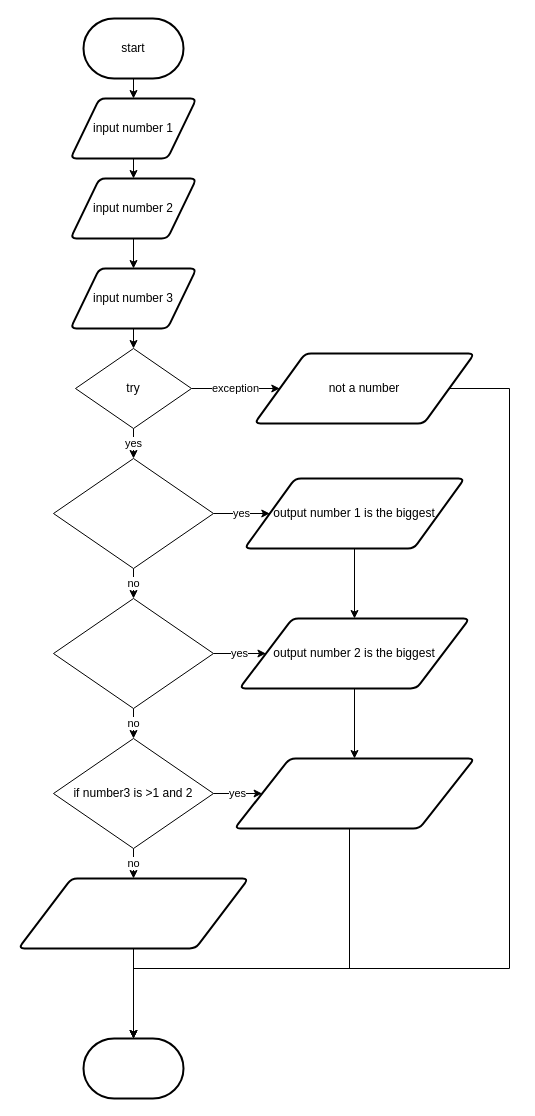
Image size: 535x1116. Some labels were removed from this diagram. The shapes that lost their labels are listed below. From the top down, each one's box as (x1, y1, x2, y2) in pixels, then its label:
(52, 458, 214, 568): if number1 is >2 and 3
(52, 598, 214, 708): if number2 is >1 and 3
(233, 757, 475, 829): output number 3 is the biggest
(17, 877, 249, 949): all the numbers are the same
(82, 1037, 184, 1099): stop
